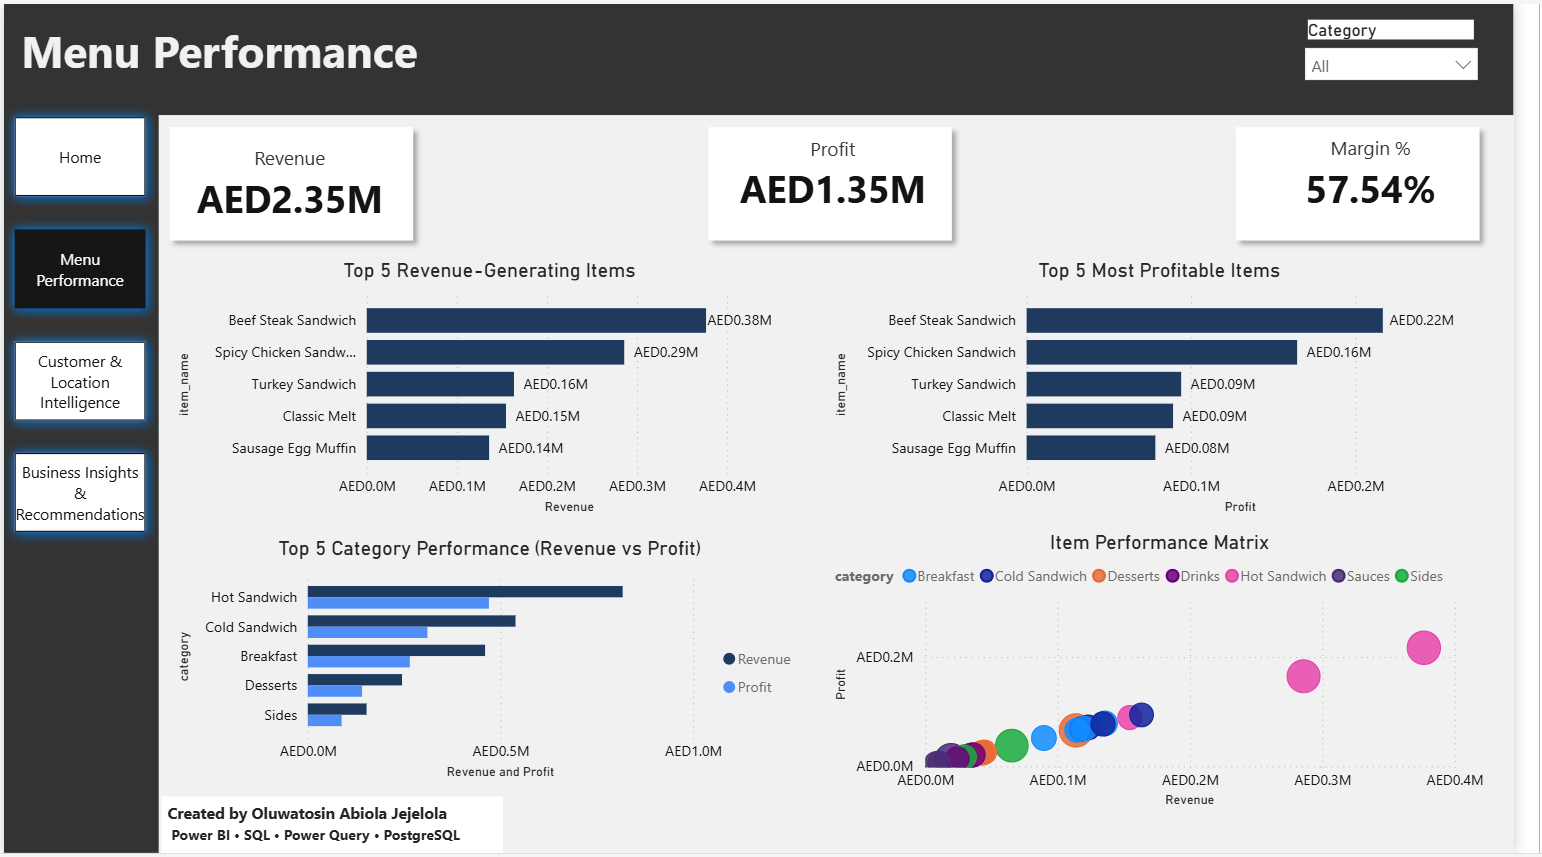

This screenshot's page, from the dashboard's own definition file:
{"tool":"powerbi","page":{"name":"Menu Performance","canvas":[1280,720],"ordinal":1},"visuals":[{"type":"group","id":"g1","title":"Background","box":[0,0,1280.2,719.8],"z":0},{"type":"shape","box":[131.4,95.3,224.4,114],"z":0,"group":"g1"},{"type":"cardVisual","fields":{"Data":["orders.Revenue"]},"box":[129,91.9,226.4,119.4],"z":1000},{"type":"shape","box":[1036,95.3,224.4,114],"z":1000,"group":"g1"},{"type":"cardVisual","fields":{"Data":["orders.Profit"]},"box":[588.4,84.9,229.1,118.6],"z":2000},{"type":"shape","box":[588.4,95.3,224.4,114],"z":2000,"group":"g1"},{"type":"shape","box":[0,0,1280.2,94.2],"z":3000,"group":"g1"},{"type":"cardVisual","fields":{"Data":["orders.Margin %"]},"box":[1065.1,87.2,187.2,114],"z":3000},{"type":"shape","box":[0,10.5,131.4,709.3],"z":4000,"group":"g1"},{"type":"barChart","title":"Top 5 Revenue-Generating Items","fields":{"Category":["menu.item_name"],"Y":["orders.Revenue"]},"box":[141.9,215.1,539.5,222.1],"z":4000},{"type":"clusteredBarChart","title":"Top 5 Category Performance (Revenue vs Profit)","fields":{"Y":["orders.Revenue","orders.Profit"],"Category":["menu.category"]},"box":[141.9,451.2,539.5,210.5],"z":5000},{"type":"scatterChart","title":"Item Performance Matrix","fields":{"X":["orders.Revenue"],"Y":["orders.Profit"],"Series":["menu.category"],"Category":["menu.item_name"],"Size":["Sum(order_items.quantity)"]},"box":[700,446.7,560.8,240.2],"z":6000},{"type":"barChart","title":"Top 5 Most Profitable Items","fields":{"Category":["menu.item_name"],"Y":["orders.Profit"]},"box":[700,215.1,560.5,222.1],"z":7000},{"type":"textbox","box":[9.6,9.6,379.4,75.6],"z":8000},{"type":"slicer","fields":{"Values":["menu.category"]},"box":[1092.5,8.5,167,76.2],"z":9000},{"type":"textbox","box":[133.7,672.1,289.5,47.7],"z":10000},{"type":"pageNavigator","box":[0,87.1,129.5,373.8],"z":11000}]}

Visuals, with their boxes in screenshot pixels (x1, y1, x2, y2), scaled from the page's 1280x720 canvas onto the 1542x857 screenshot:
"Background" group: box(0, 0, 1541, 856)
shape: box(158, 113, 429, 249)
cardVisual - orders.Revenue: box(155, 109, 428, 252)
shape: box(1248, 113, 1518, 249)
cardVisual - orders.Profit: box(709, 101, 985, 242)
shape: box(709, 113, 979, 249)
shape: box(0, 0, 1541, 112)
cardVisual - orders.Margin %: box(1283, 104, 1509, 239)
shape: box(0, 12, 158, 856)
"Top 5 Revenue-Generating Items" barChart: box(171, 256, 821, 520)
"Top 5 Category Performance (Revenue vs Profit)" clusteredBarChart: box(171, 537, 821, 788)
"Item Performance Matrix" scatterChart: box(843, 532, 1519, 818)
"Top 5 Most Profitable Items" barChart: box(843, 256, 1519, 520)
textbox: box(12, 11, 469, 101)
slicer - menu.category: box(1316, 10, 1517, 101)
textbox: box(161, 800, 510, 856)
pageNavigator: box(0, 104, 156, 549)
